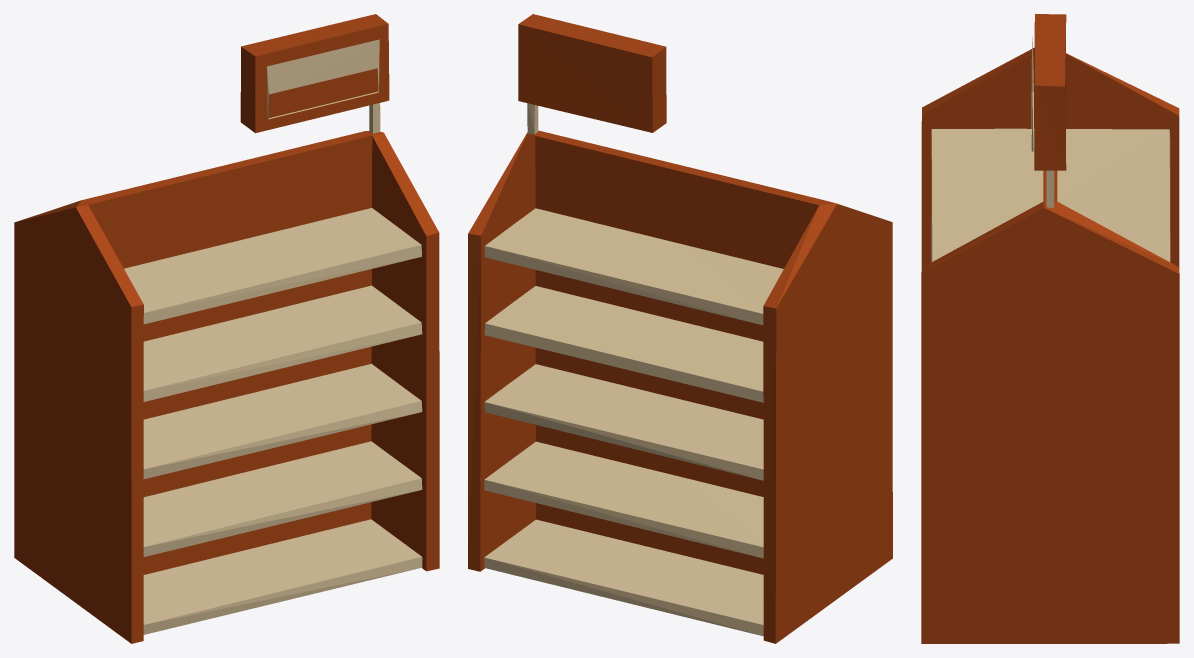
File: ss-shelf.lod2.glb
The picture shows the model from 3 angles, left to right: view 1: azimuth 30°, elevation 25°; view 2: azimuth 150°, elevation 25°; view 3: azimuth 270°, elevation 25°; orthographic projection. The views are drawn at different scales.
Visible parts, largest first — view 1: Object_101; view 2: Object_101; view 3: Object_101.
Boxes of the visible parts, x1,y1,x2,y2 form: Object_101: (14,14,439,643); Object_101: (468,14,892,643); Object_101: (921,14,1179,643).
Size of the model in its own units: 1.8 by 2.81 by 1.18.
